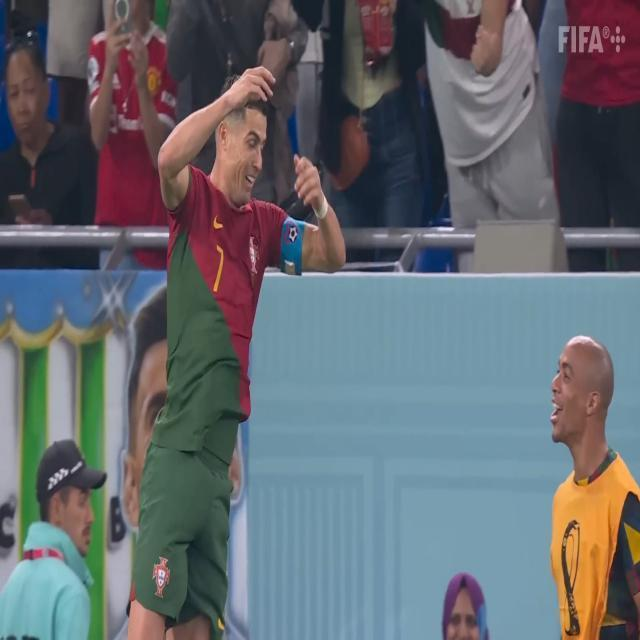player: (132, 39, 344, 638)
